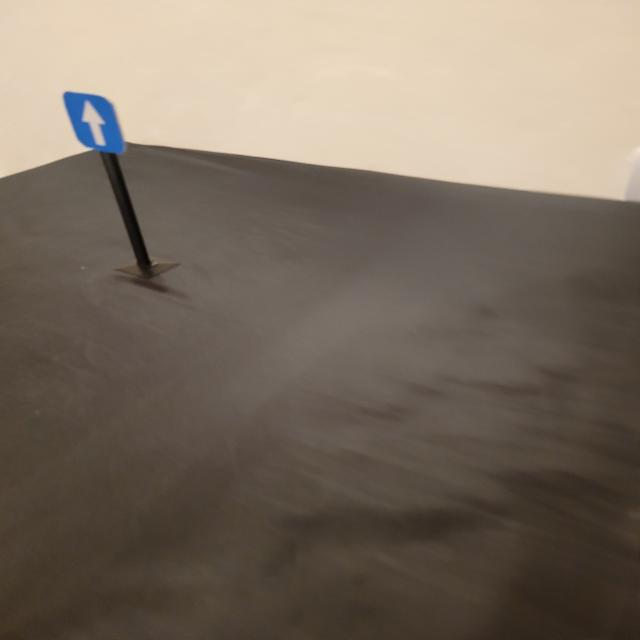one_way: (61, 90, 127, 156)
